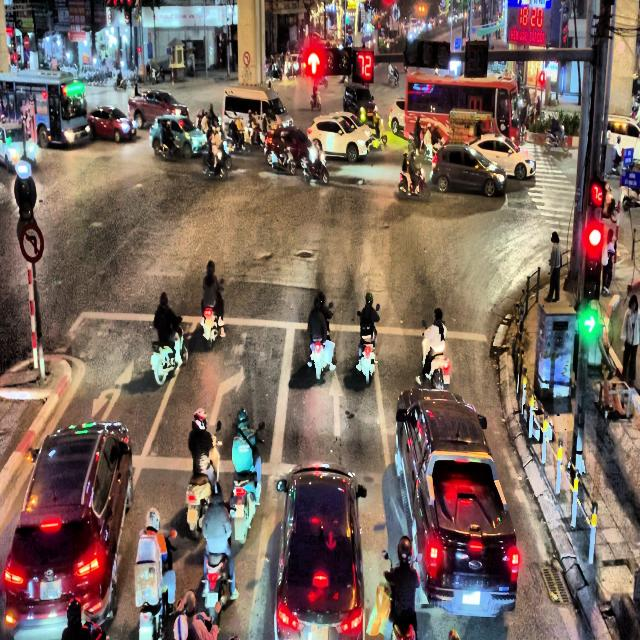BUS: (403, 71, 520, 148), (0, 68, 92, 148)
CAR: (3, 420, 133, 639), (412, 450, 520, 618), (274, 463, 367, 640), (395, 388, 493, 524), (430, 143, 507, 197), (307, 111, 371, 162), (468, 134, 536, 180), (264, 126, 324, 176), (149, 114, 207, 159), (127, 90, 189, 128), (87, 105, 137, 142), (0, 123, 37, 172), (388, 98, 405, 134)
MOTORBIKE: (134, 528, 176, 638), (229, 422, 264, 546), (198, 498, 235, 612), (186, 420, 222, 536), (151, 326, 188, 385), (420, 320, 451, 390), (307, 305, 334, 379), (200, 279, 225, 349), (356, 310, 377, 385), (398, 167, 430, 202), (302, 150, 329, 185), (202, 144, 228, 180), (267, 146, 296, 175), (544, 128, 570, 154), (366, 119, 387, 148), (158, 136, 181, 161), (424, 137, 446, 162), (408, 131, 426, 155), (310, 88, 321, 111), (388, 67, 399, 87)
